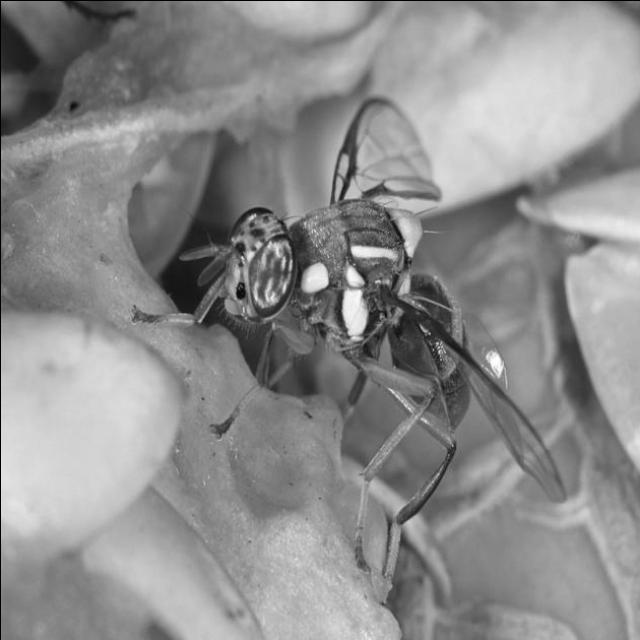Fruit fly: (119, 83, 574, 608)
